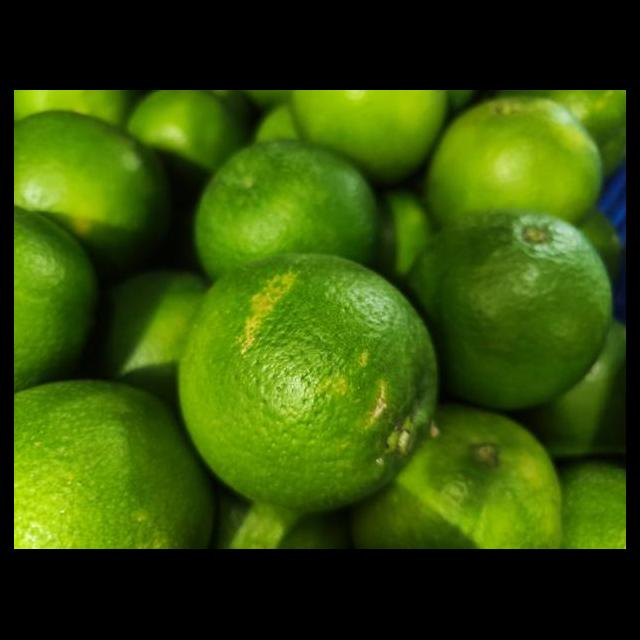lime: (176, 254, 441, 516), (14, 380, 217, 550)
